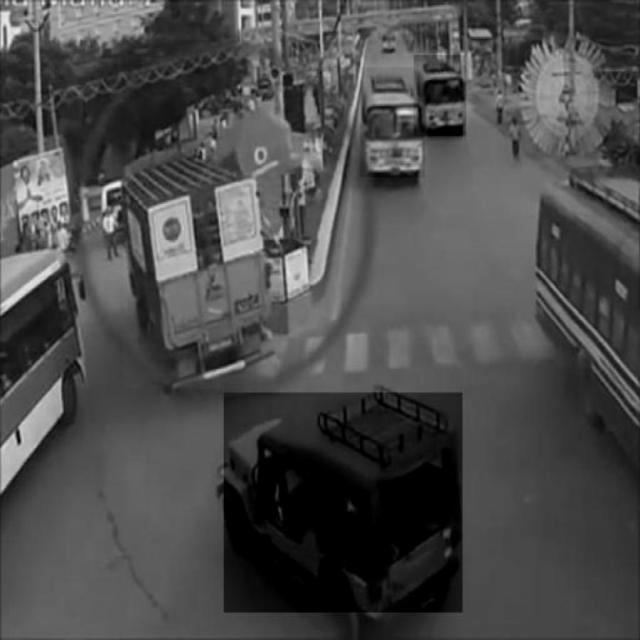vehicle: (225, 393, 463, 613), (124, 170, 278, 388), (360, 68, 424, 178), (414, 55, 466, 136)
